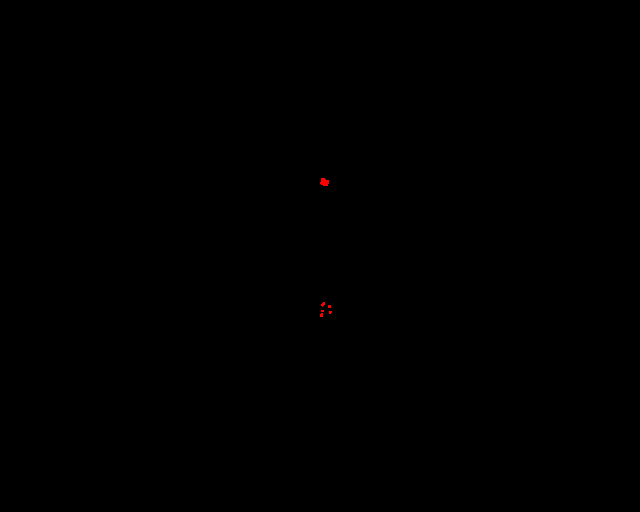Target: (320, 178, 329, 186), (321, 302, 325, 307), (320, 313, 323, 317), (328, 305, 331, 308), (329, 311, 332, 314), (321, 310, 324, 312)
